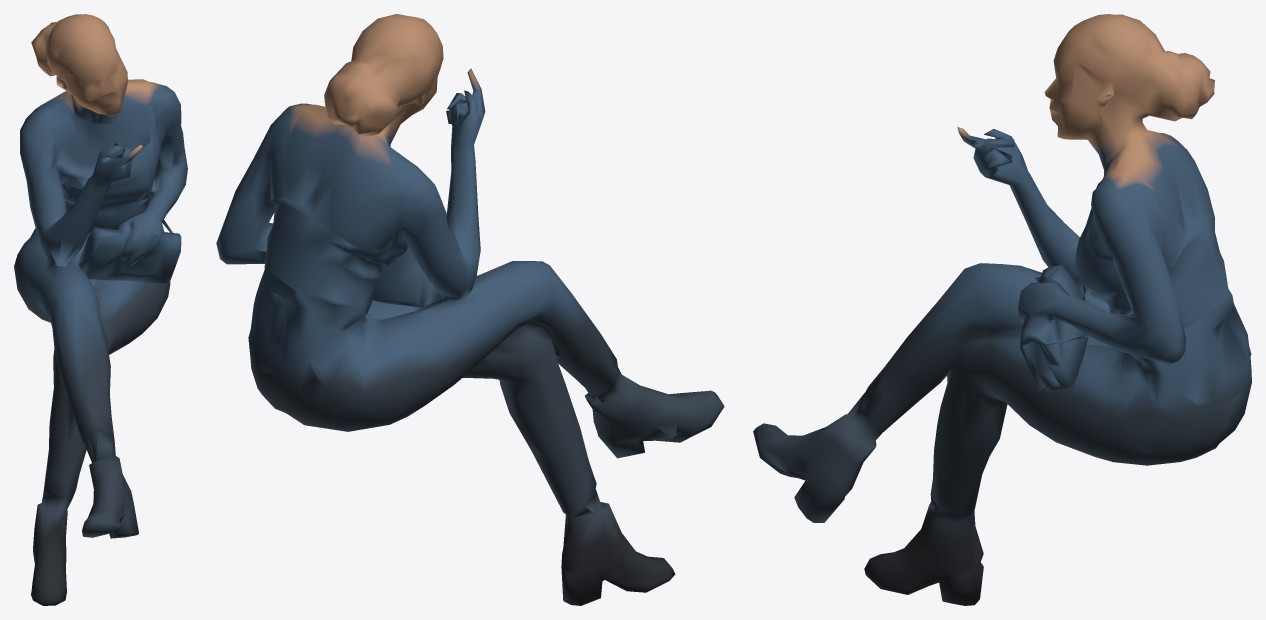
The model's file is people_typ2_sit.glb.
3 renders of one model, left to right at view 1: azimuth 30°, elevation 25°; view 2: azimuth 150°, elevation 25°; view 3: azimuth 270°, elevation 25°, orthographic. The views are drawn at different scales.
Visible parts, largest first — view 1: people_typ2_sit-mesh; view 2: people_typ2_sit-mesh; view 3: people_typ2_sit-mesh.
Boxes of the visible parts, left/top/right/bottom form: people_typ2_sit-mesh: left=14, top=14, right=187, bottom=605; people_typ2_sit-mesh: left=216, top=14, right=724, bottom=605; people_typ2_sit-mesh: left=753, top=14, right=1251, bottom=605.
Size of the model in its own units: 0.7549 by 1.38 by 0.975.
